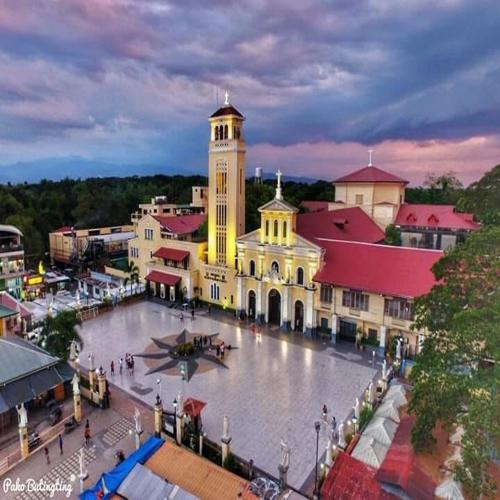Manaoag Church: (193, 86, 323, 343)
